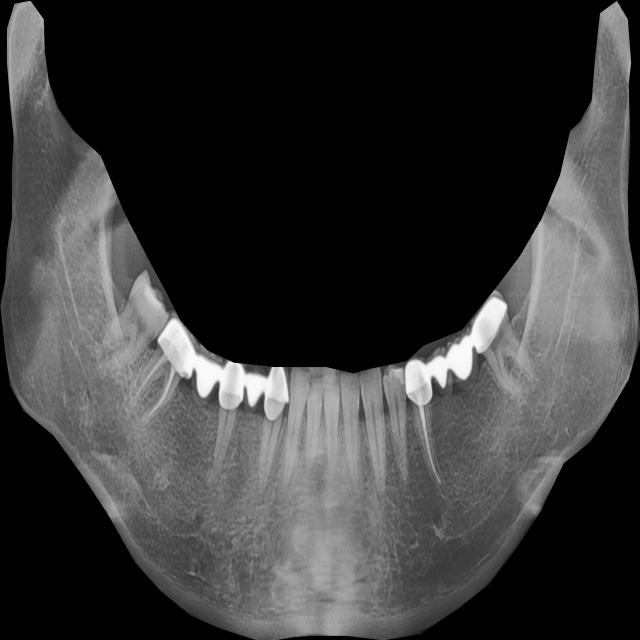mandibula: (0, 1, 640, 640)
